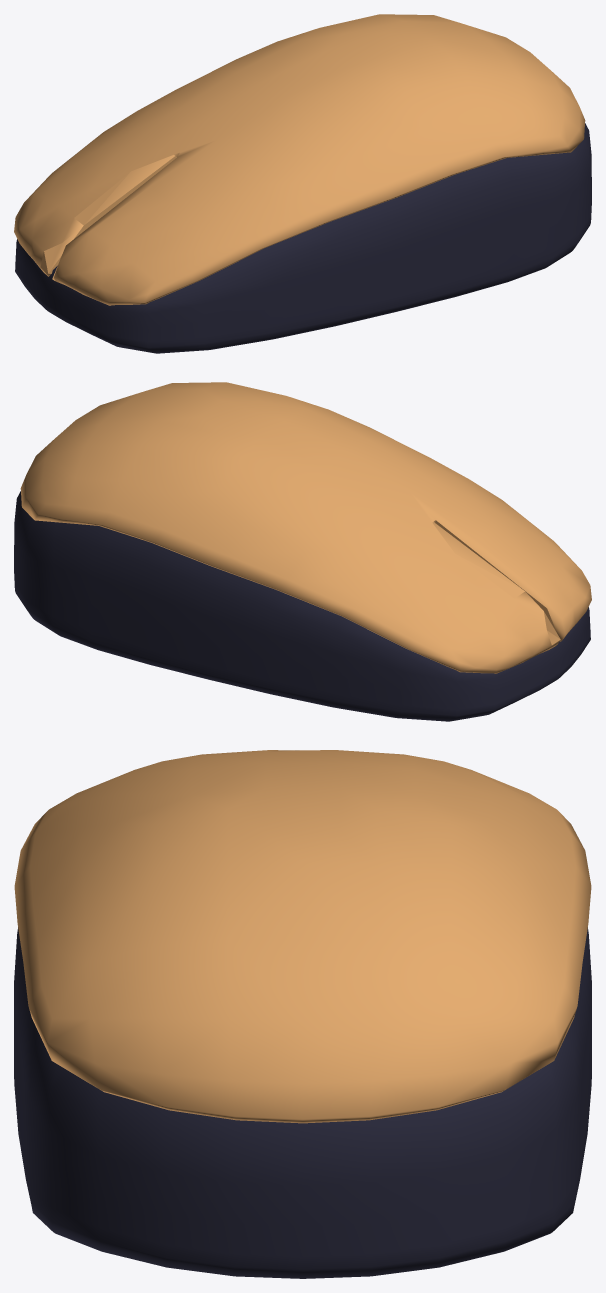
Rendered from Maus.gltf.
3 renders of one model, top to bottom at view 1: azimuth 30°, elevation 25°; view 2: azimuth 150°, elevation 25°; view 3: azimuth 270°, elevation 25°, orthographic. The views are drawn at different scales.
Visible parts, largest first — view 1: Cube.002; view 2: Cube.002; view 3: Cube.002.
Boxes of the visible parts, <box> form: Cube.002: <box>14,14,591,353</box>; Cube.002: <box>14,382,591,721</box>; Cube.002: <box>14,750,591,1278</box>.
Size of the model in its own units: 0.0796 by 0.0287 by 0.0448.
